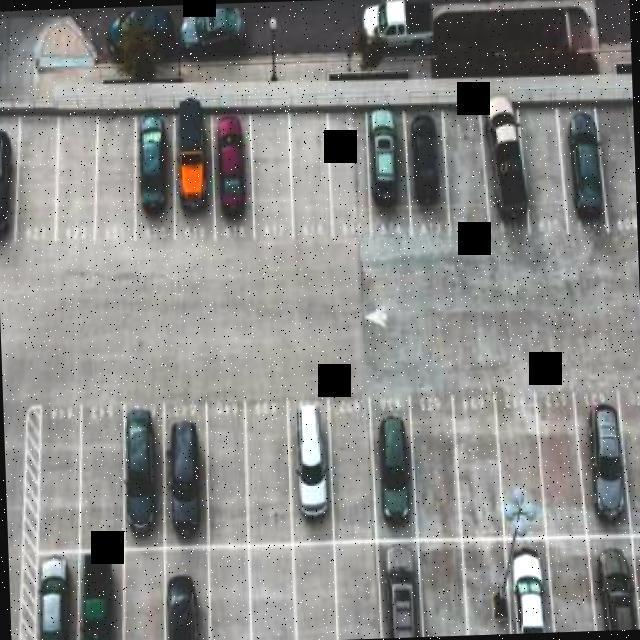car: (582, 392, 631, 536), (168, 96, 215, 242), (134, 99, 174, 237), (212, 92, 248, 244), (166, 421, 209, 544), (503, 536, 555, 634), (67, 542, 115, 640), (292, 386, 327, 520), (124, 398, 159, 532), (405, 106, 443, 227), (368, 106, 408, 217), (490, 84, 520, 230), (594, 545, 640, 630), (160, 561, 205, 640), (562, 115, 596, 217), (33, 554, 69, 640), (0, 106, 23, 230), (378, 417, 405, 514), (391, 550, 416, 638)
free: (40, 416, 75, 540), (330, 124, 369, 233), (248, 422, 287, 529), (19, 118, 55, 232), (60, 116, 93, 240), (95, 127, 132, 236), (255, 126, 291, 237), (522, 115, 556, 225), (211, 432, 248, 532), (83, 426, 117, 533), (292, 133, 328, 232), (422, 552, 462, 636), (544, 409, 574, 514), (460, 419, 492, 517), (556, 545, 592, 632), (293, 559, 331, 640), (342, 550, 376, 640), (335, 422, 367, 516), (504, 402, 534, 502), (424, 413, 453, 515), (128, 541, 157, 640), (213, 553, 246, 640), (448, 126, 481, 208), (470, 560, 503, 635), (609, 126, 636, 216), (259, 557, 287, 640), (626, 406, 640, 511)
